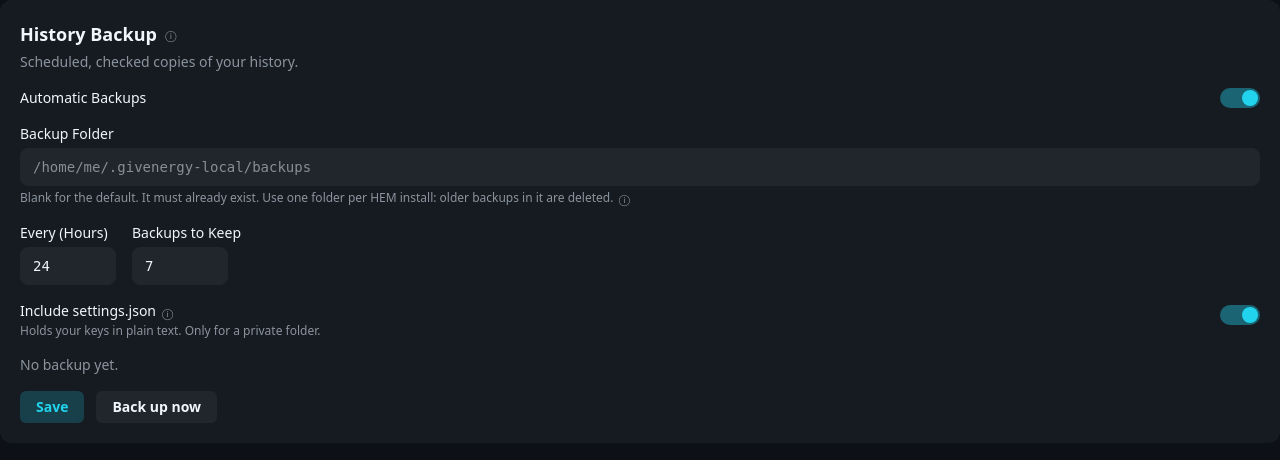
Test case: HistoryBackupPanel › says old settings copies stay when settings.json is turned off
This screenshot has width=1280, height=460.
Click the switch named "Include settings.json".
click(1240, 315)  # box [1220,305,1260,325]
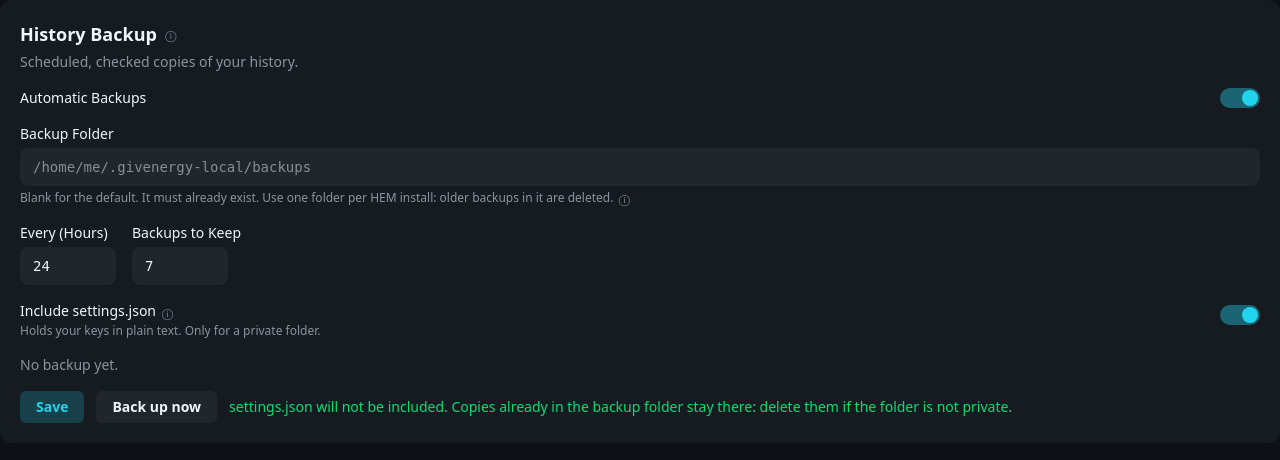
Now the message shows "already in the backup folder stay", box [229,397,1012,416]
